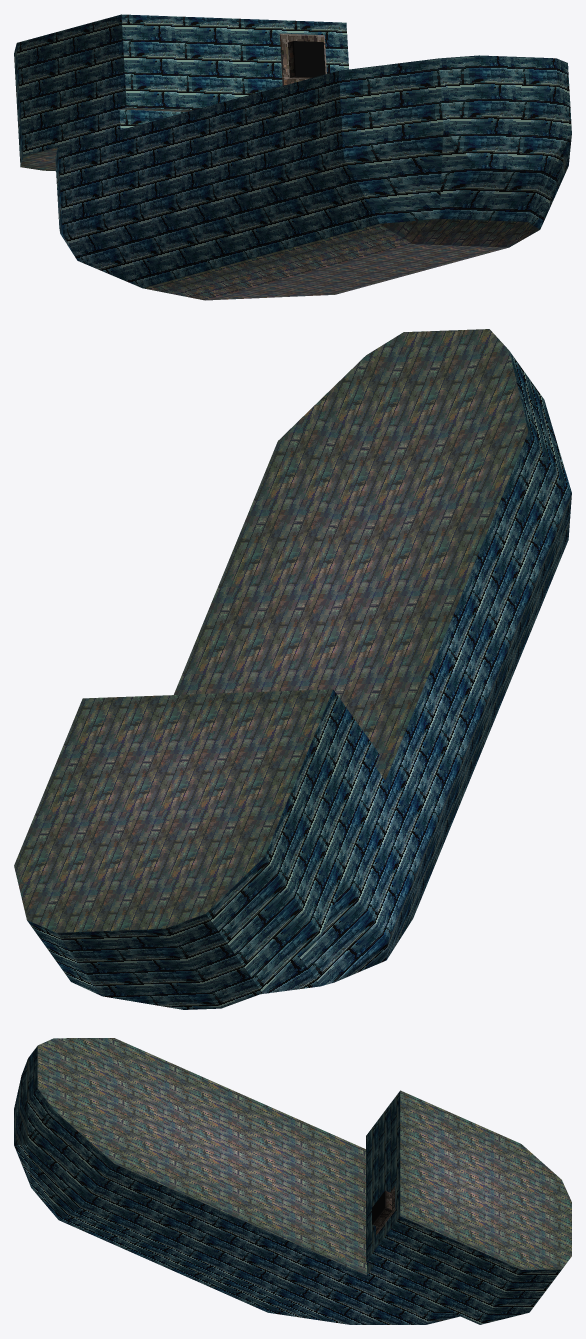
The model's file is kaizoku_ship_all.glb.
3 renders of one model, top to bottom at view 1: azimuth 30°, elevation 25°; view 2: azimuth 150°, elevation 25°; view 3: azimuth 270°, elevation 25°, orthographic. The views are drawn at different scales.
Parts seen in each view (by area): view 1: kaizoku_ship_all; view 2: kaizoku_ship_all; view 3: kaizoku_ship_all.
Part boxes in pixels (<box>): kaizoku_ship_all: <box>14,14,571,300</box>; kaizoku_ship_all: <box>14,329,571,1009</box>; kaizoku_ship_all: <box>14,1038,571,1324</box>.
Size of the model in its own units: 3.11 by 3.46 by 6.89.
6 materials, 6 textured.
